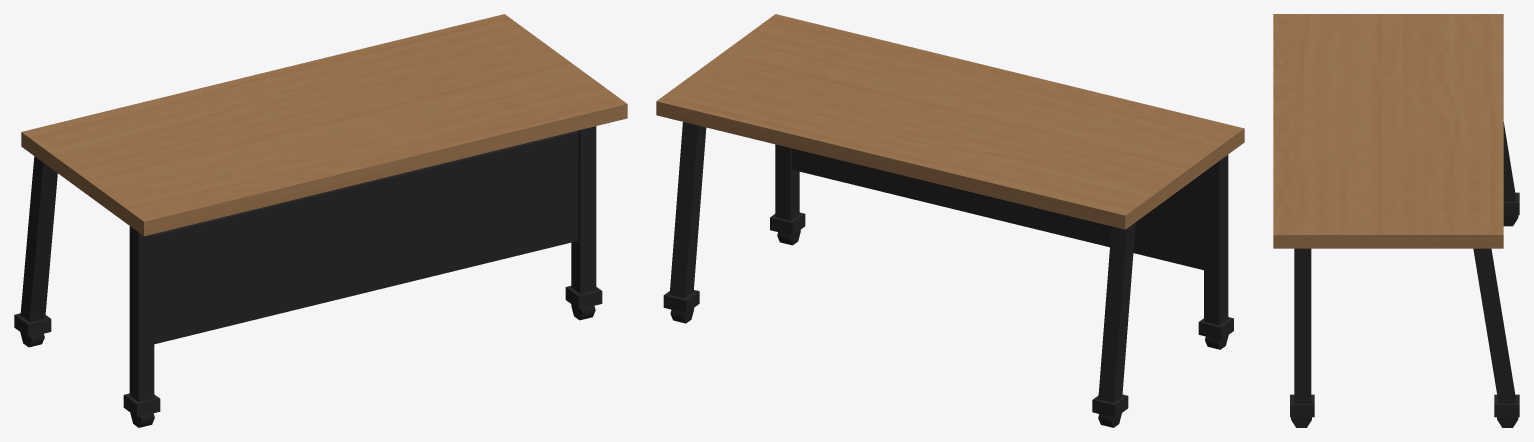
File: desk_middle.FBX
3 views of the same model, side by side, from view 1: azimuth 30°, elevation 25°; view 2: azimuth 150°, elevation 25°; view 3: azimuth 270°, elevation 25° (orthographic). The views are drawn at different scales.
Parts seen in each view (by area): view 1: Box032; view 2: Box032; view 3: Box032.
Boxes of the visible parts, x1,y1,x2,y2 form: Box032: [14, 14, 627, 427]; Box032: [656, 14, 1244, 427]; Box032: [1273, 14, 1519, 427].
Size of the model in its own units: 193 by 82.74 by 91.01.
1 material, 1 textured.
